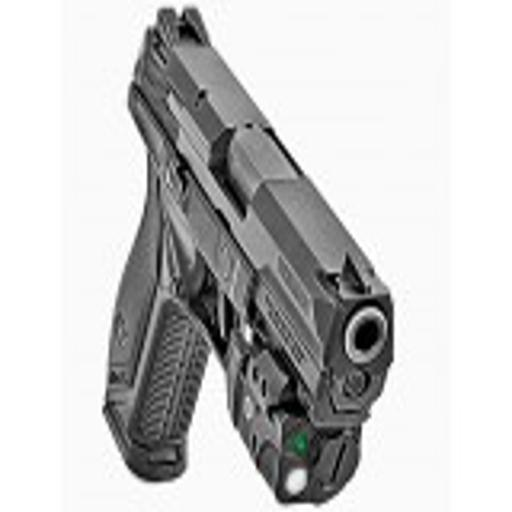Handgun: (98, 3, 395, 511)
